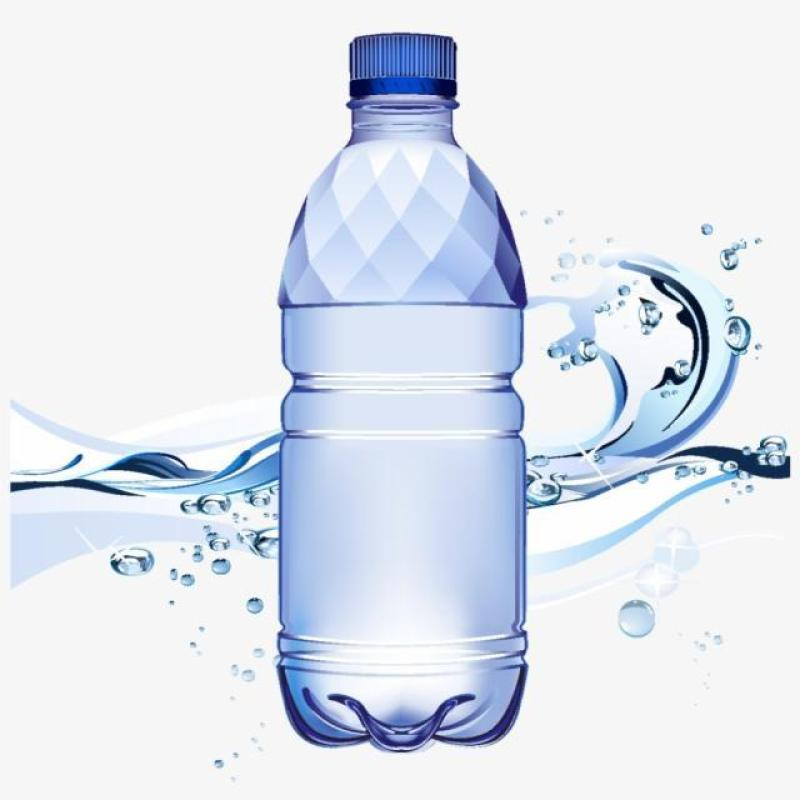botella: (280, 29, 528, 750)
